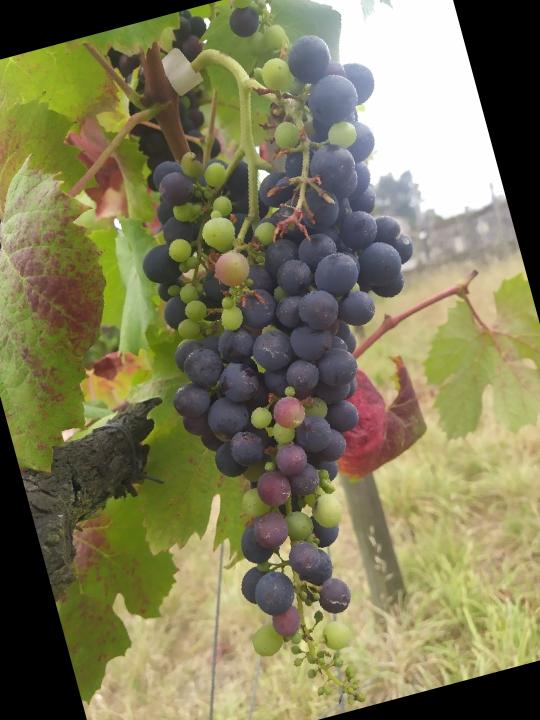grape: (89, 21, 529, 720)
